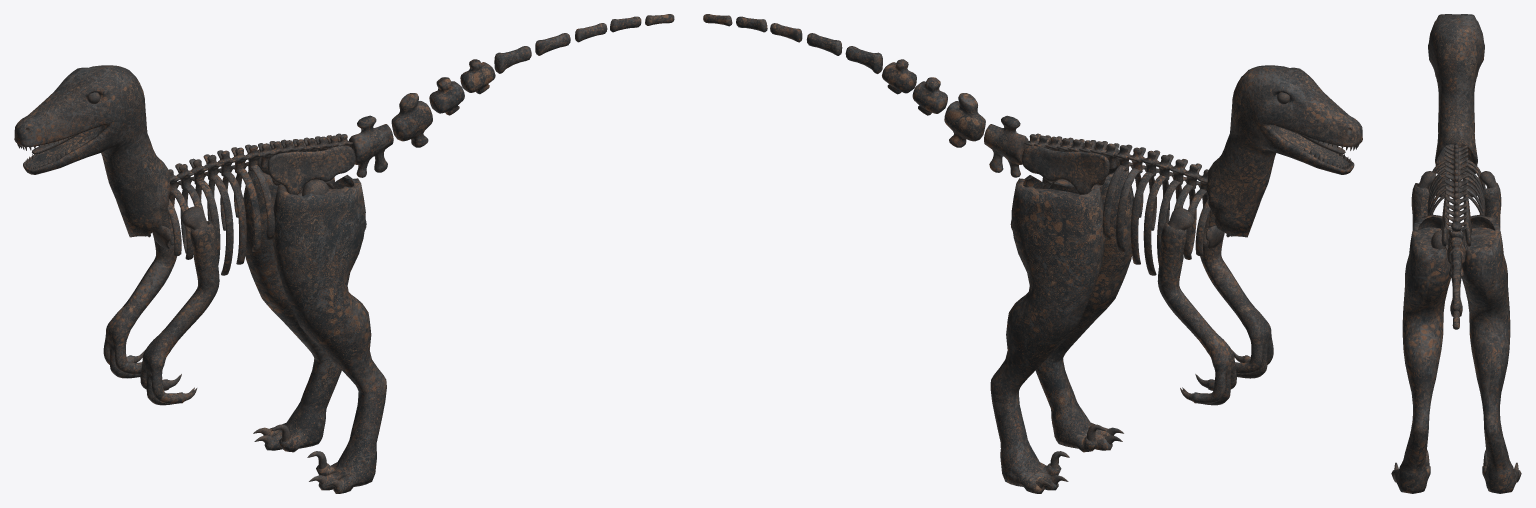
The model's file is undead_raptor_02.fbx.
The picture shows the model from 3 angles, left to right: view 1: azimuth 30°, elevation 25°; view 2: azimuth 150°, elevation 25°; view 3: azimuth 270°, elevation 25°; orthographic projection. The views are drawn at different scales.
Parts seen in each view (by area): view 1: leg.001, head, arms.001, tail_full_mesh, rib_cage_full_mesh, back_spine_full_mesh, hip_bone_full_mesh, toe_nails.001; view 2: leg.001, head, arms.001, tail_full_mesh, rib_cage_full_mesh, back_spine_full_mesh, hip_bone_full_mesh, toe_nails.001; view 3: leg.001, head, back_spine_full_mesh, rib_cage_full_mesh, tail_full_mesh, arms.001, hip_bone_full_mesh, arms.002, leg_bone, toe_nails.001, chest_bone.002.
Part boxes in pixels (x1,y1,x2,y2): leg.001: [243, 170, 386, 493]; head: [14, 65, 170, 237]; arms.001: [103, 209, 219, 405]; tail_full_mesh: [348, 14, 674, 177]; rib_cage_full_mesh: [167, 162, 274, 275]; back_spine_full_mesh: [168, 133, 352, 194]; hip_bone_full_mesh: [257, 137, 355, 194]; toe_nails.001: [253, 424, 341, 488]; leg.001: [990, 170, 1133, 493]; head: [1206, 65, 1362, 237]; arms.001: [1157, 209, 1273, 405]; tail_full_mesh: [703, 14, 1028, 177]; rib_cage_full_mesh: [1102, 162, 1210, 275]; back_spine_full_mesh: [1024, 133, 1208, 194]; hip_bone_full_mesh: [1021, 138, 1119, 194]; toe_nails.001: [1035, 424, 1123, 488]; leg.001: [1391, 214, 1521, 493]; head: [1428, 14, 1484, 175]; back_spine_full_mesh: [1444, 144, 1468, 231]; rib_cage_full_mesh: [1427, 158, 1485, 215]; tail_full_mesh: [1447, 221, 1465, 329]; arms.001: [1411, 183, 1501, 229]; hip_bone_full_mesh: [1441, 190, 1471, 246]; arms.002: [1417, 171, 1497, 188]; leg_bone: [1431, 230, 1447, 249]; toe_nails.001: [1394, 450, 1518, 469]; chest_bone.002: [1436, 176, 1480, 197].
Bounding box in the file's own units: 371 × 242 × 75.48.
